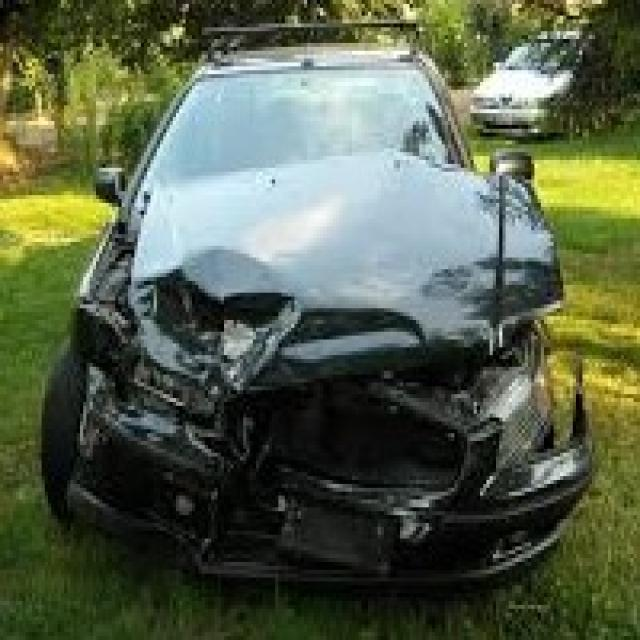moderate: (48, 161, 632, 590)
